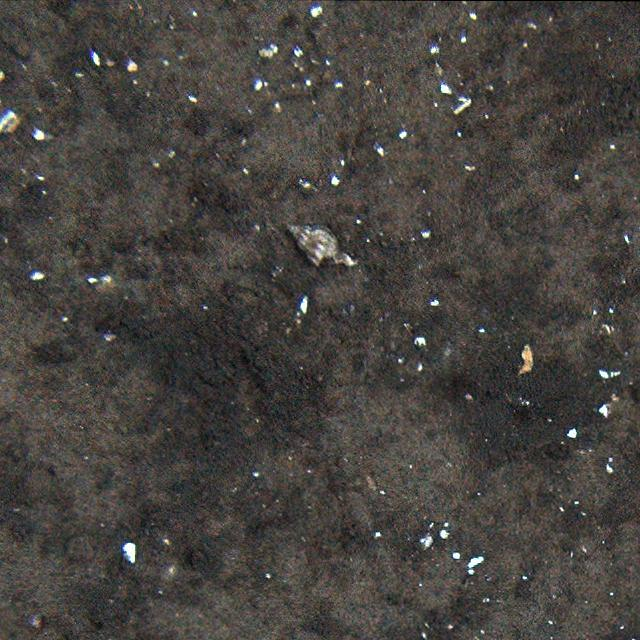whelk: (287, 221, 352, 273)
